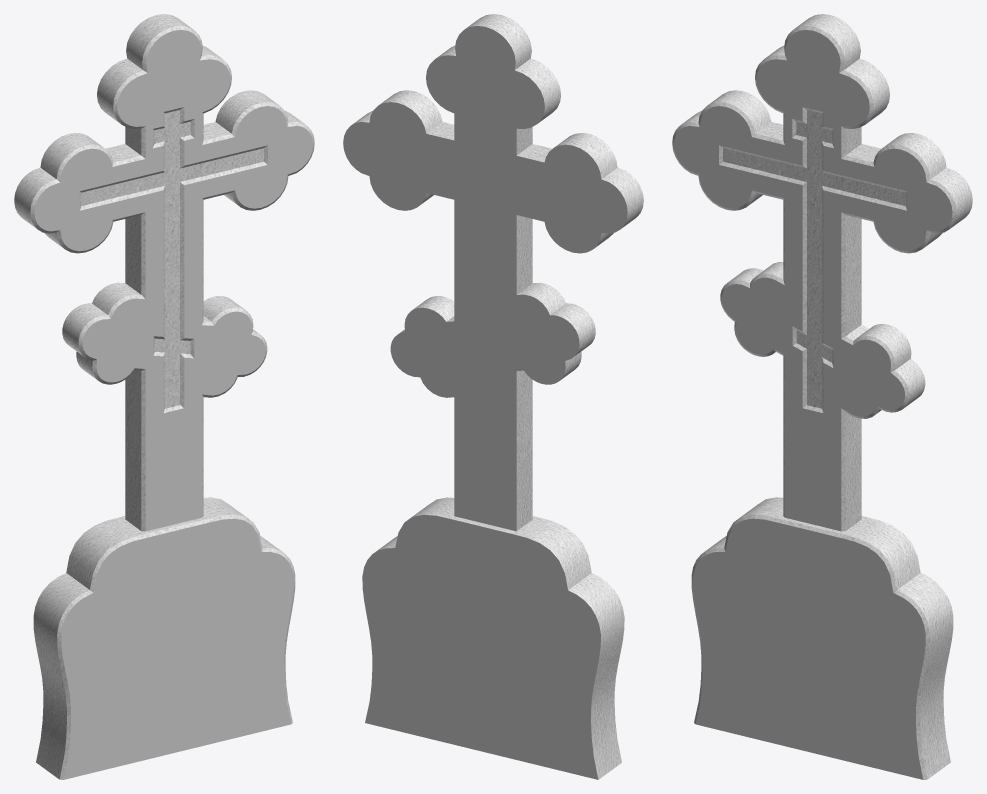
The model's file is cn2af3e68800_tkf.glb.
3 views of the same model, side by side, from view 1: azimuth 30°, elevation 25°; view 2: azimuth 150°, elevation 25°; view 3: azimuth 330°, elevation 25° (orthographic).
Visible parts, largest first — view 1: Pam-d03-316, Pam-d03-316_2_notexture; view 2: Pam-d03-316, Pam-d03-316_2_notexture; view 3: Pam-d03-316, Pam-d03-316_2_notexture.
Boxes of the visible parts, x1,y1,x2,y2 form: Pam-d03-316: (34, 30, 313, 779); Pam-d03-316_2_notexture: (14, 14, 314, 779); Pam-d03-316: (343, 26, 627, 779); Pam-d03-316_2_notexture: (352, 14, 643, 779); Pam-d03-316: (673, 30, 952, 779); Pam-d03-316_2_notexture: (672, 14, 972, 779).
Bounding box in the file's own units: 0.33 × 0.8 × 0.05.
1 material, 1 textured.
